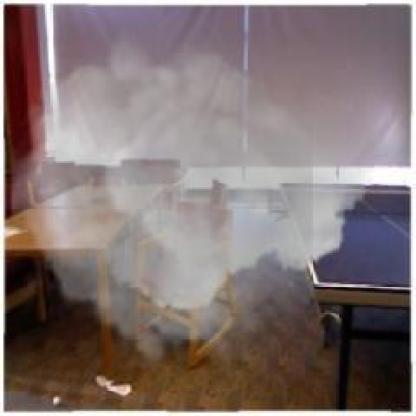Smoke: (11, 22, 374, 375)
